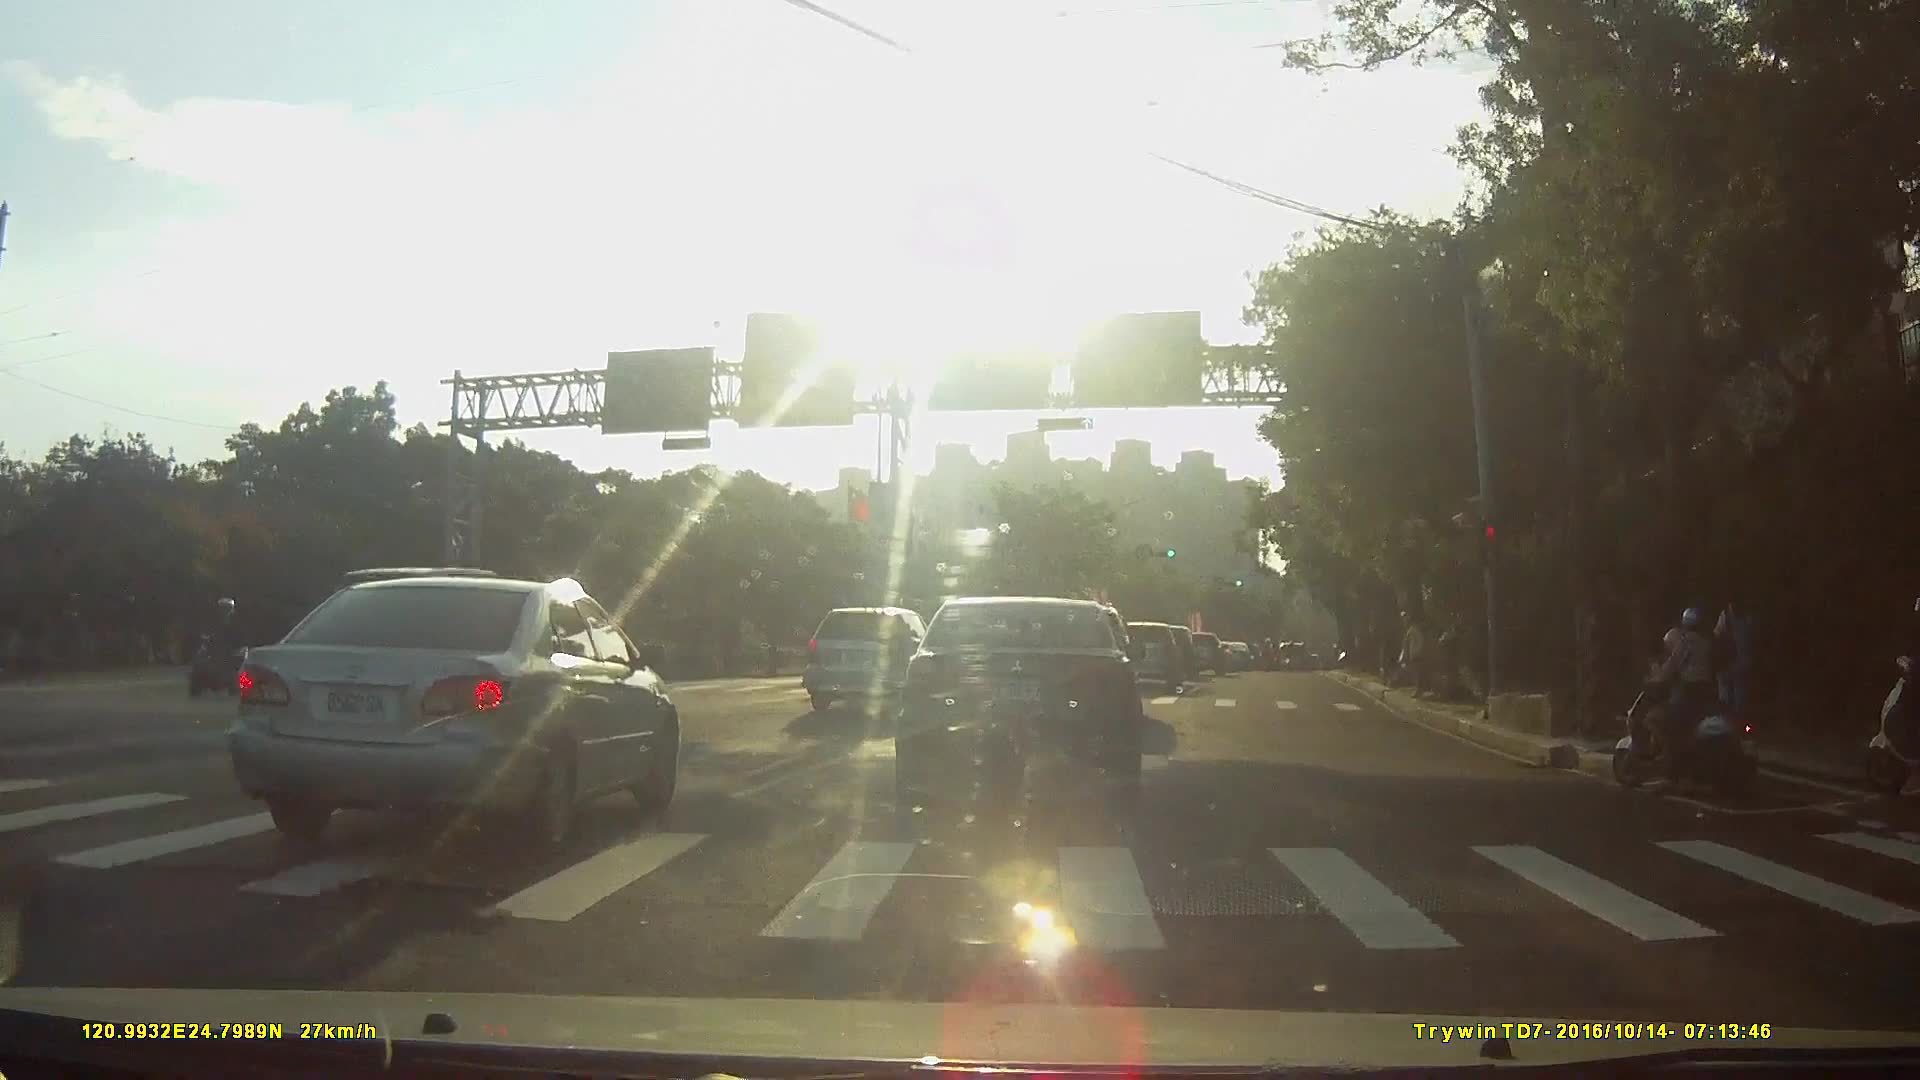pedestrian: (1709, 587, 1768, 744)
rider: (1610, 608, 1769, 806), (1860, 597, 1920, 792), (193, 595, 254, 693)
vehicle: (213, 576, 680, 857), (892, 596, 1144, 805), (801, 608, 945, 718), (1108, 622, 1182, 690), (1174, 631, 1224, 674), (1216, 643, 1253, 671)
